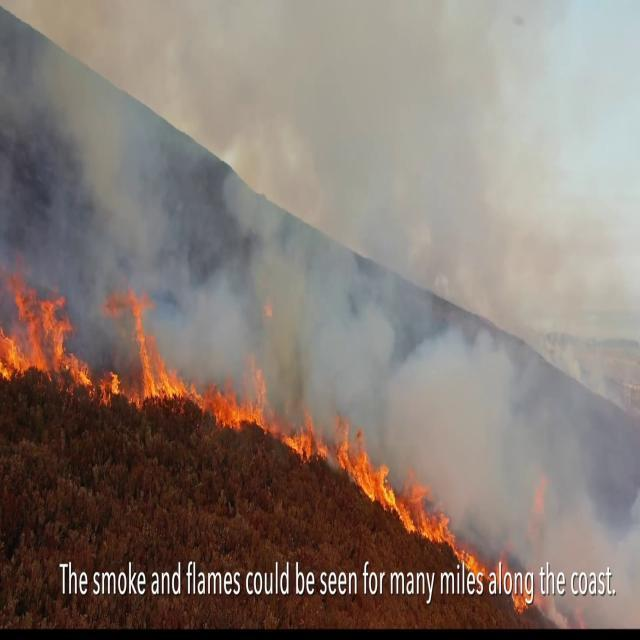Fire: (76, 300, 175, 411), (0, 288, 72, 394), (176, 375, 269, 429), (385, 486, 451, 544), (330, 443, 392, 499)
Smoke: (236, 163, 417, 370), (411, 331, 513, 478)
